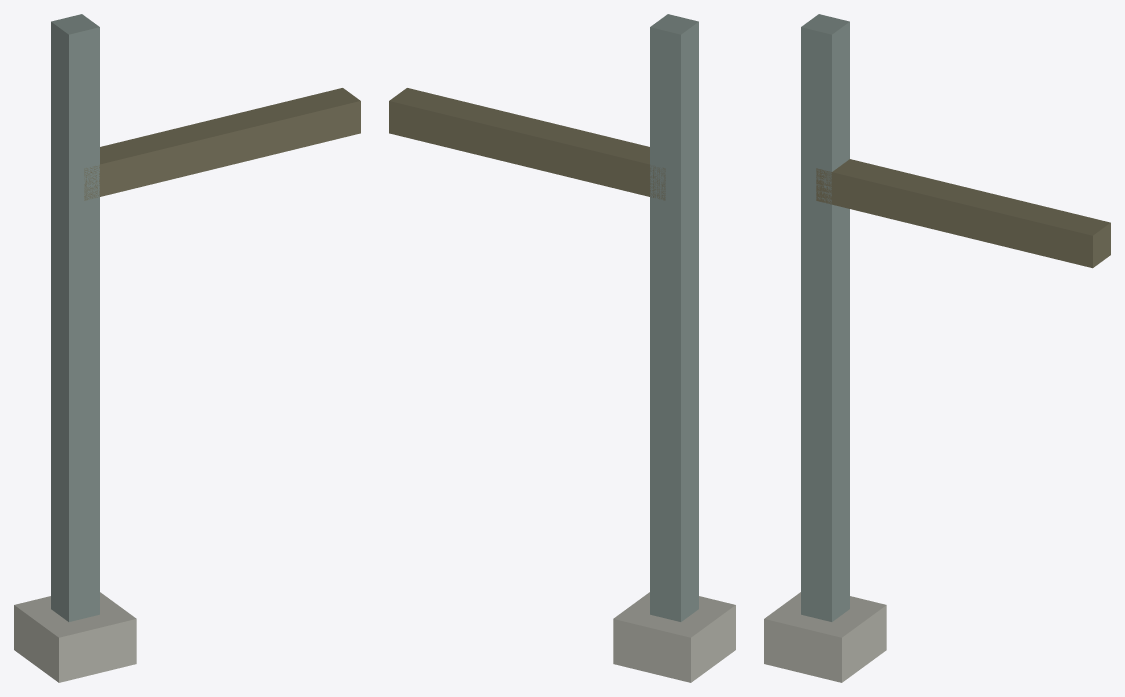
File: SM_poste_catenaria_v5_LOD1.fbx
3 renders of one model, left to right at view 1: azimuth 30°, elevation 25°; view 2: azimuth 150°, elevation 25°; view 3: azimuth 330°, elevation 25°, orthographic.
Visible parts, largest first — view 1: SM_bloques.poste_catenaria_v5_LOD1; view 2: SM_bloques.poste_catenaria_v5_LOD1; view 3: SM_bloques.poste_catenaria_v5_LOD1.
Part boxes in pixels (x1=…): SM_bloques.poste_catenaria_v5_LOD1: x1=14, y1=14, x2=360, y2=682; SM_bloques.poste_catenaria_v5_LOD1: x1=389, y1=14, x2=735, y2=682; SM_bloques.poste_catenaria_v5_LOD1: x1=764, y1=14, x2=1110, y2=682.
Bounding box in the file's own units: 3.65 × 7 × 0.9.
